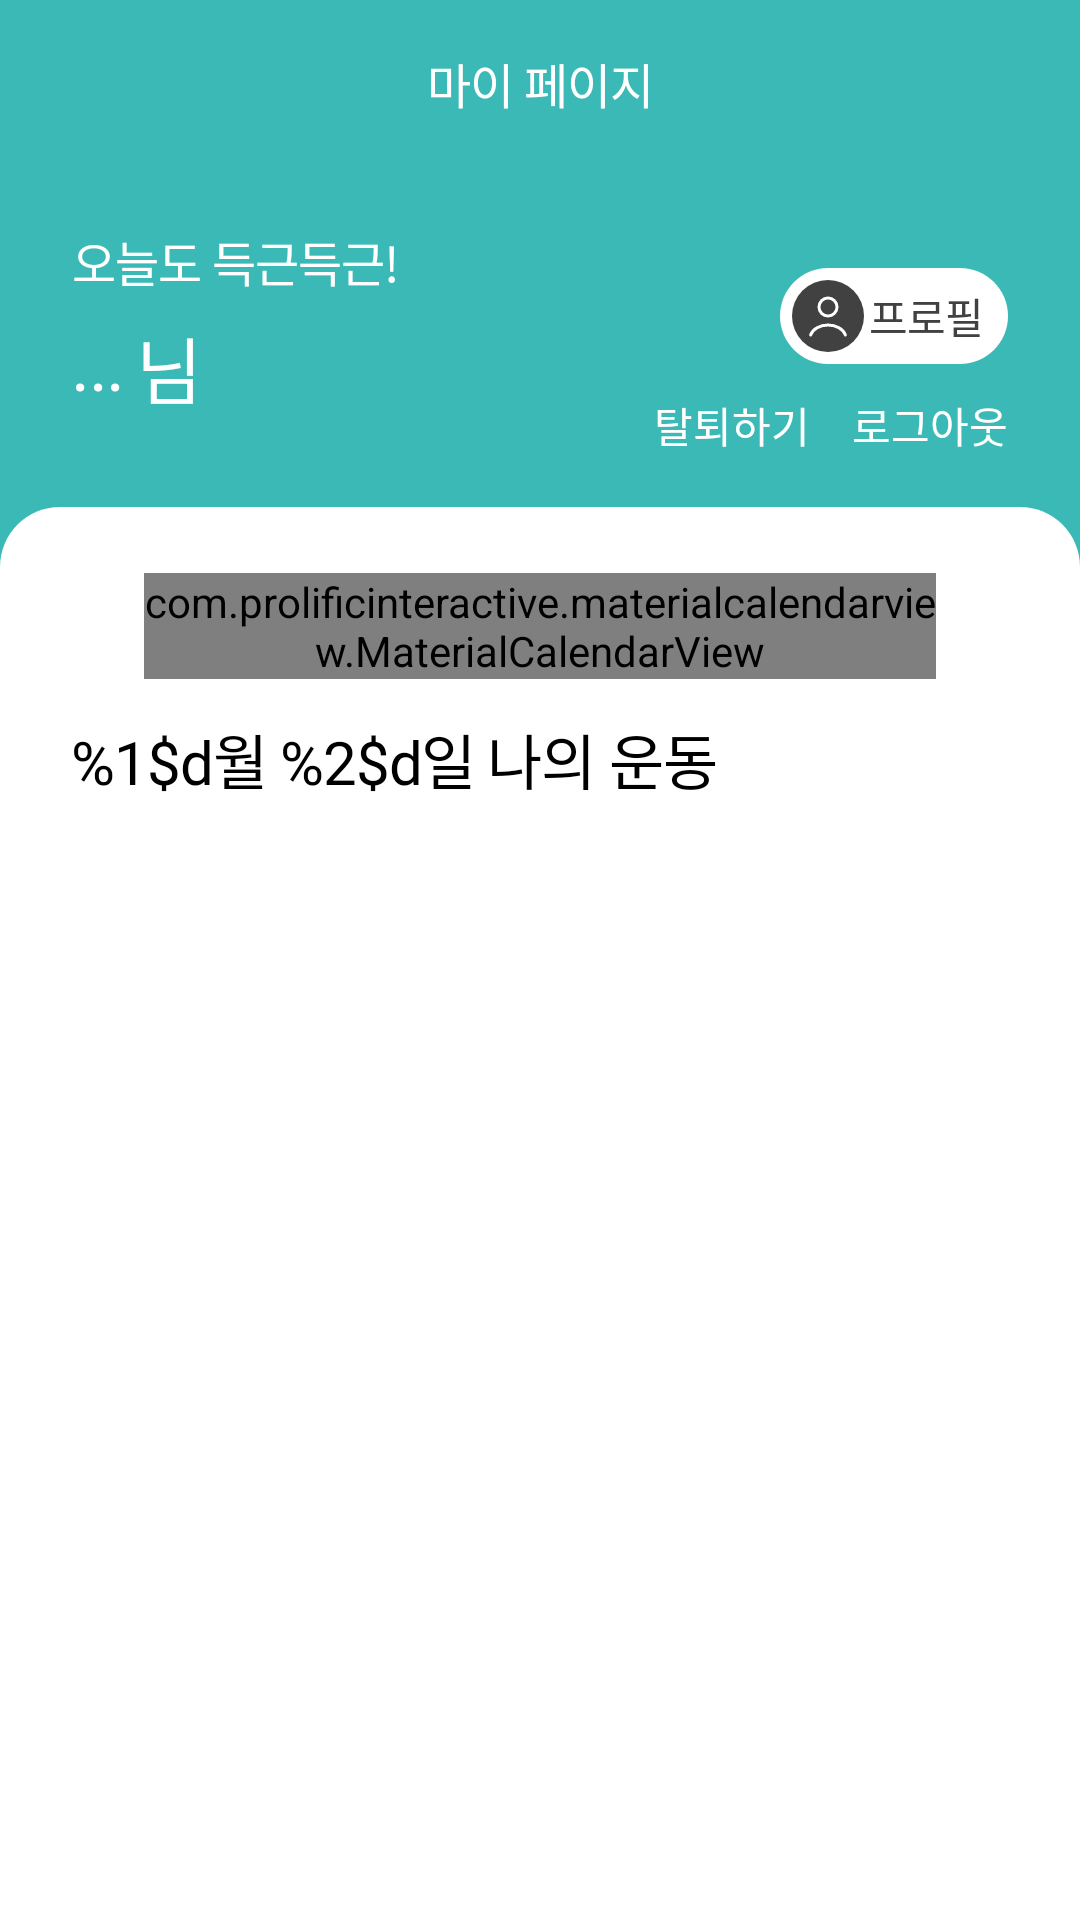

Icons on this 1080x1920 Android screen, each with its box as [left=x1, top=y1, right=x2, bottom=y2]:
user: [left=809, top=296, right=847, bottom=337]
